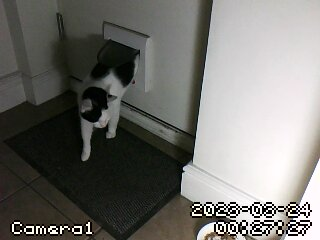bad: (75, 34, 141, 165)
